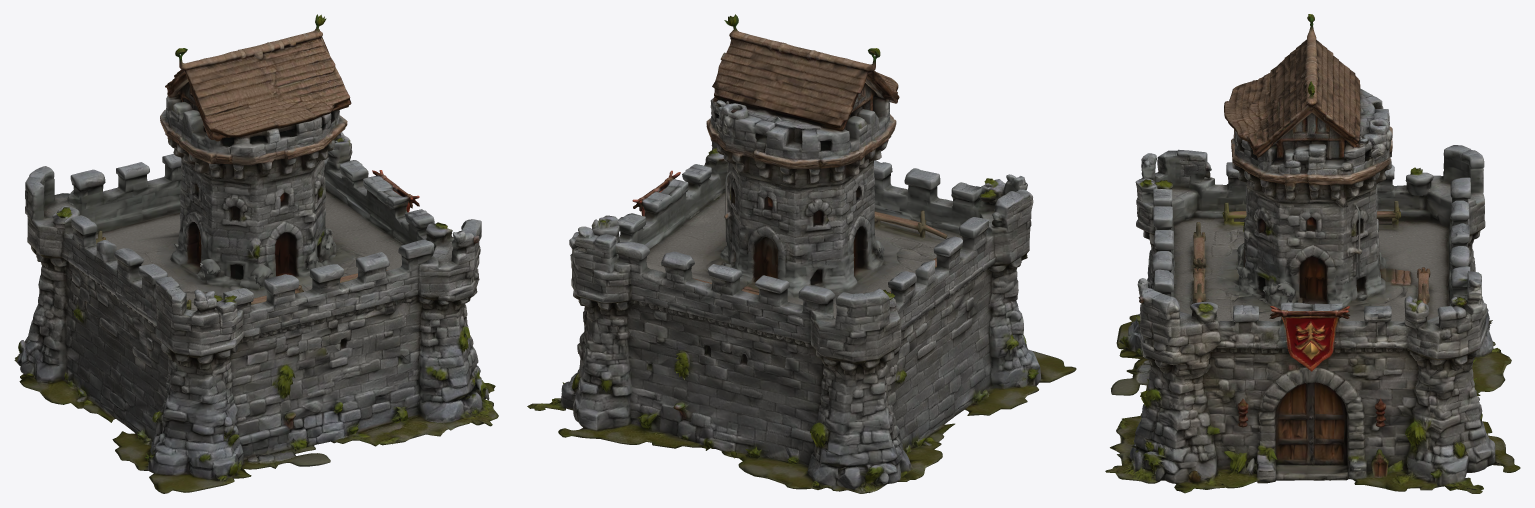
The model's file is command-tower-keep.glb.
3 renders of one model, left to right at view 1: azimuth 30°, elevation 25°; view 2: azimuth 150°, elevation 25°; view 3: azimuth 270°, elevation 25°, orthographic. The views are drawn at different scales.
Visible parts, largest first — view 1: tripo_node_8b32bebc-3a6d-4db4-9b19-4a90bb909440; view 2: tripo_node_8b32bebc-3a6d-4db4-9b19-4a90bb909440; view 3: tripo_node_8b32bebc-3a6d-4db4-9b19-4a90bb909440.
Boxes of the visible parts, x1,y1,x2,y2 form: tripo_node_8b32bebc-3a6d-4db4-9b19-4a90bb909440: (14, 14, 498, 493); tripo_node_8b32bebc-3a6d-4db4-9b19-4a90bb909440: (527, 14, 1076, 493); tripo_node_8b32bebc-3a6d-4db4-9b19-4a90bb909440: (1105, 14, 1520, 493).
Bounding box in the file's own units: 0.9803 × 0.9119 × 0.9574.
Materials: 1 (1 with a texture image).
